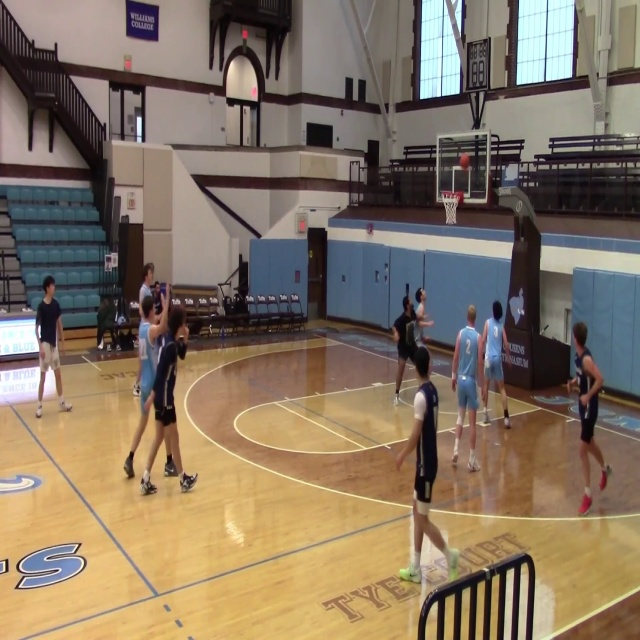Basketball: (459, 154, 469, 168), (242, 29, 248, 38)
